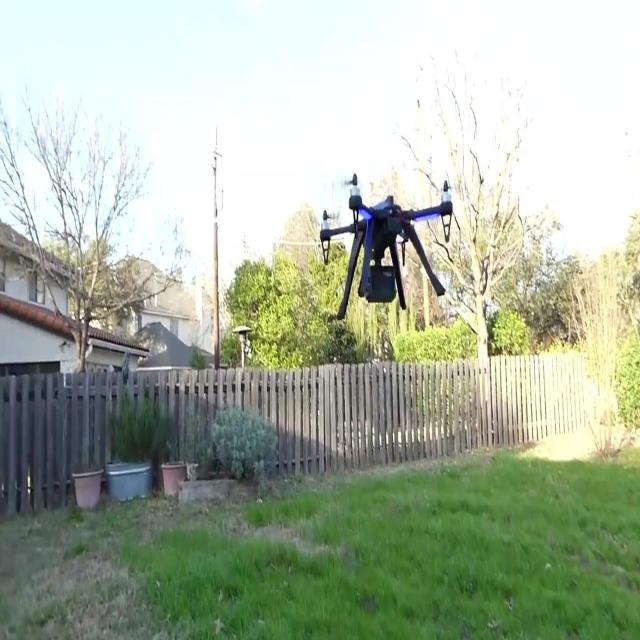drone: (320, 169, 456, 321)
